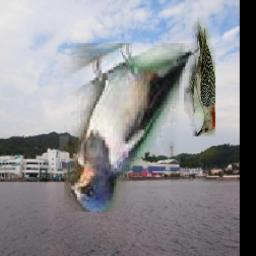Swallow: (65, 44, 200, 213)
Woodpecker: (185, 17, 216, 136)
